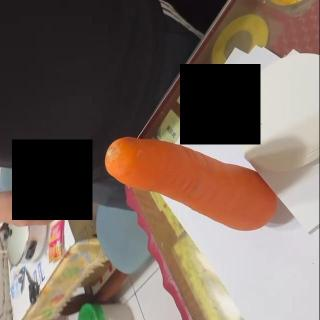carrot: (104, 138, 274, 230)
